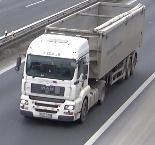Truck: (13, 2, 146, 119)
